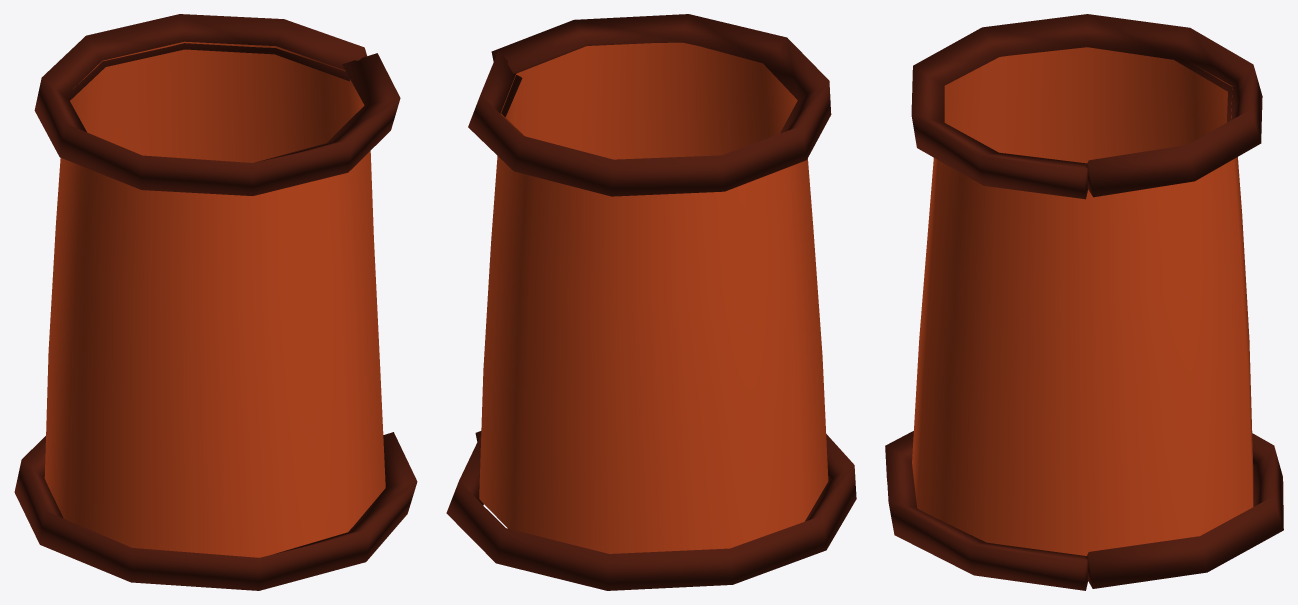
Rendered from hellstone_armor_bracer.L.glb.
3 renders of one model, left to right at view 1: azimuth 30°, elevation 25°; view 2: azimuth 150°, elevation 25°; view 3: azimuth 270°, elevation 25°, orthographic.
Parts seen in each view (by area): view 1: hellstone_armor_bracer.L; view 2: hellstone_armor_bracer.L; view 3: hellstone_armor_bracer.L.
Part boxes in pixels (left/top/right/bottom): hellstone_armor_bracer.L: left=14, top=14, right=417, bottom=590; hellstone_armor_bracer.L: left=446, top=14, right=856, bottom=590; hellstone_armor_bracer.L: left=885, top=14, right=1283, bottom=590.
Size of the model in its own units: 0.1504 by 0.1719 by 0.1471.
